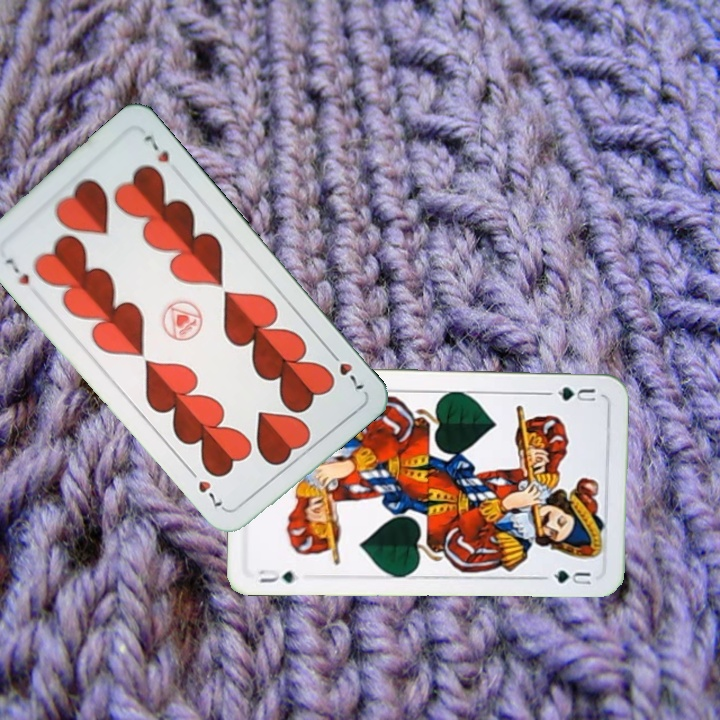GU: (254, 565, 302, 586), (553, 383, 600, 404)
H7: (324, 345, 367, 396), (1, 253, 32, 288)
